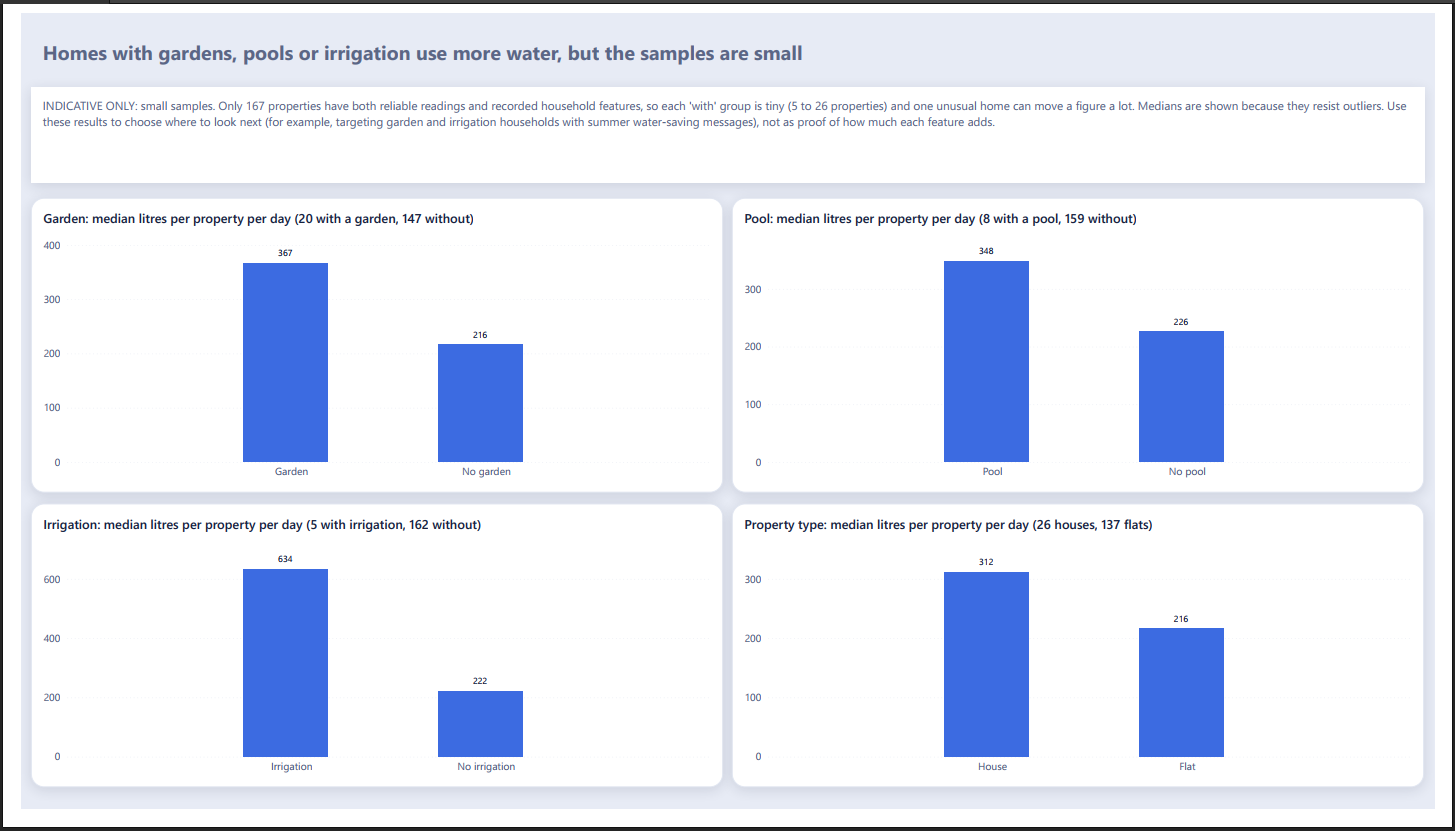

This screenshot's page, from the dashboard's own definition file:
{"tool":"powerbi","page":{"name":"Water efficiency","canvas":[1920,1080],"ordinal":3},"visuals":[{"type":"clusteredColumnChart","title":"Garden: median litres per property per day (20 with a garden, 147 without)","fields":{"Category":["DimProperty.garden"],"Y":["_Measures.Median Daily Litres per Property"]},"box":[14,250,940,400],"z":0},{"type":"clusteredColumnChart","title":"Pool: median litres per property per day (8 with a pool, 159 without)","fields":{"Category":["DimProperty.pool"],"Y":["_Measures.Median Daily Litres per Property"]},"box":[966,250,940,400],"z":1},{"type":"clusteredColumnChart","title":"Irrigation: median litres per property per day (5 with irrigation, 162 without)","fields":{"Category":["DimProperty.irrigation"],"Y":["_Measures.Median Daily Litres per Property"]},"box":[14,665,940,385],"z":2},{"type":"clusteredColumnChart","title":"Property type: median litres per property per day (26 houses, 137 flats)","fields":{"Category":["DimProperty.property_type"],"Y":["_Measures.Median Daily Litres per Property"]},"box":[966,665,940,385],"z":3},{"type":"textbox","box":[14,100,1892,130],"z":4},{"type":"textbox","box":[14,20,1400,70],"z":5}]}

Visuals, with their boxes in screenshot pixels (x1, y1, x2, y2), scaled from the page's 1920x1080 canvas onto the 1455x831 screenshot:
"Garden: median litres per property per day (20 with a garden, 147 without)" clusteredColumnChart: 11/192/723/500
"Pool: median litres per property per day (8 with a pool, 159 without)" clusteredColumnChart: 732/192/1444/500
"Irrigation: median litres per property per day (5 with irrigation, 162 without)" clusteredColumnChart: 11/512/723/808
"Property type: median litres per property per day (26 houses, 137 flats)" clusteredColumnChart: 732/512/1444/808
textbox: 11/77/1444/177
textbox: 11/15/1072/69
